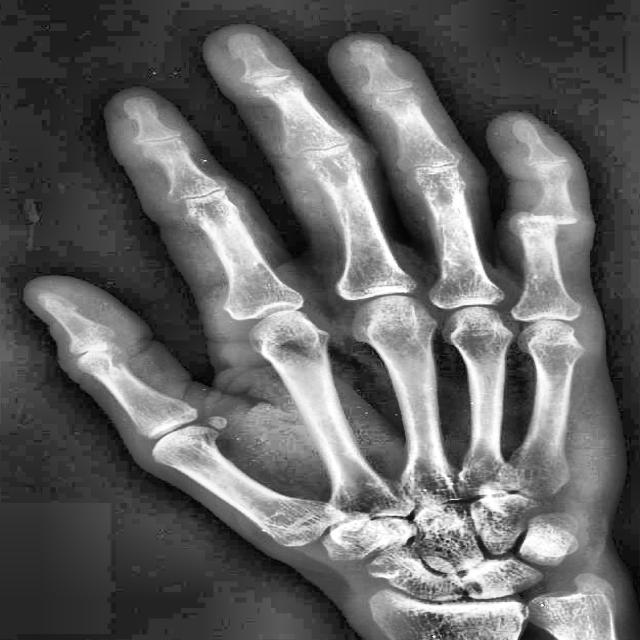fracture: (522, 210, 564, 228)
